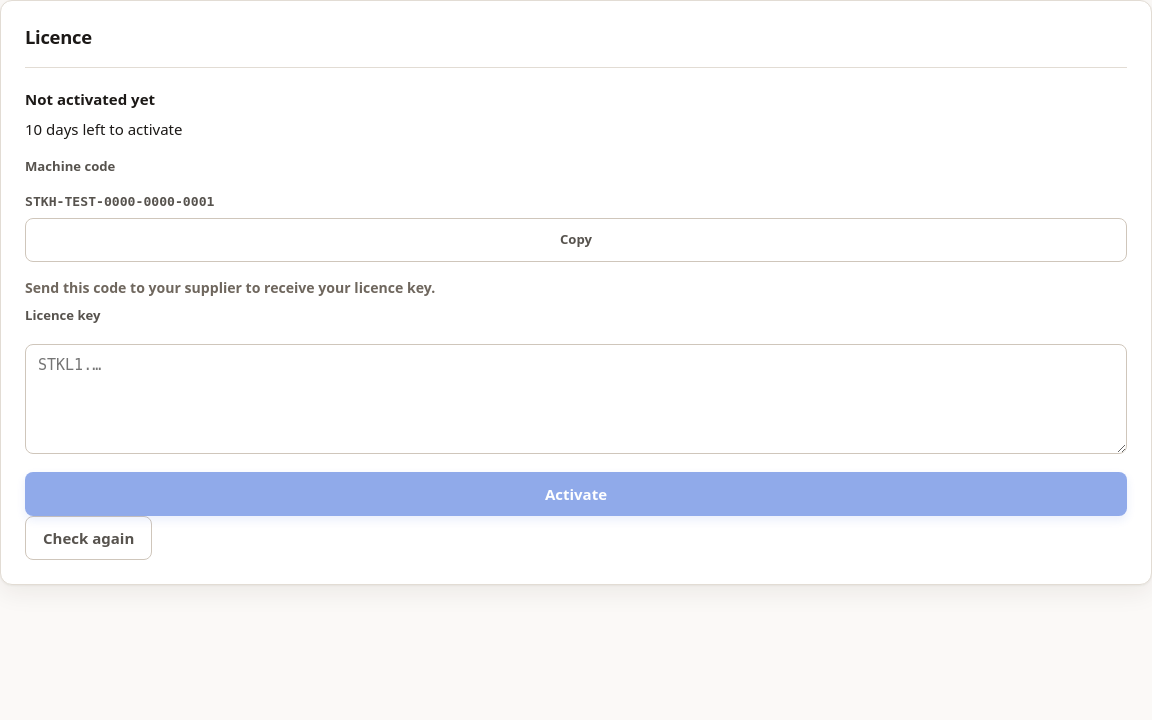
WS-K-7-B LicenceSettingsCard › shows the localized message for LICENCE_MALFORMED
Type "STKL1.abc.def" into the text box with test id "licence-key-input" at (576, 399), box [25,344,1127,454]
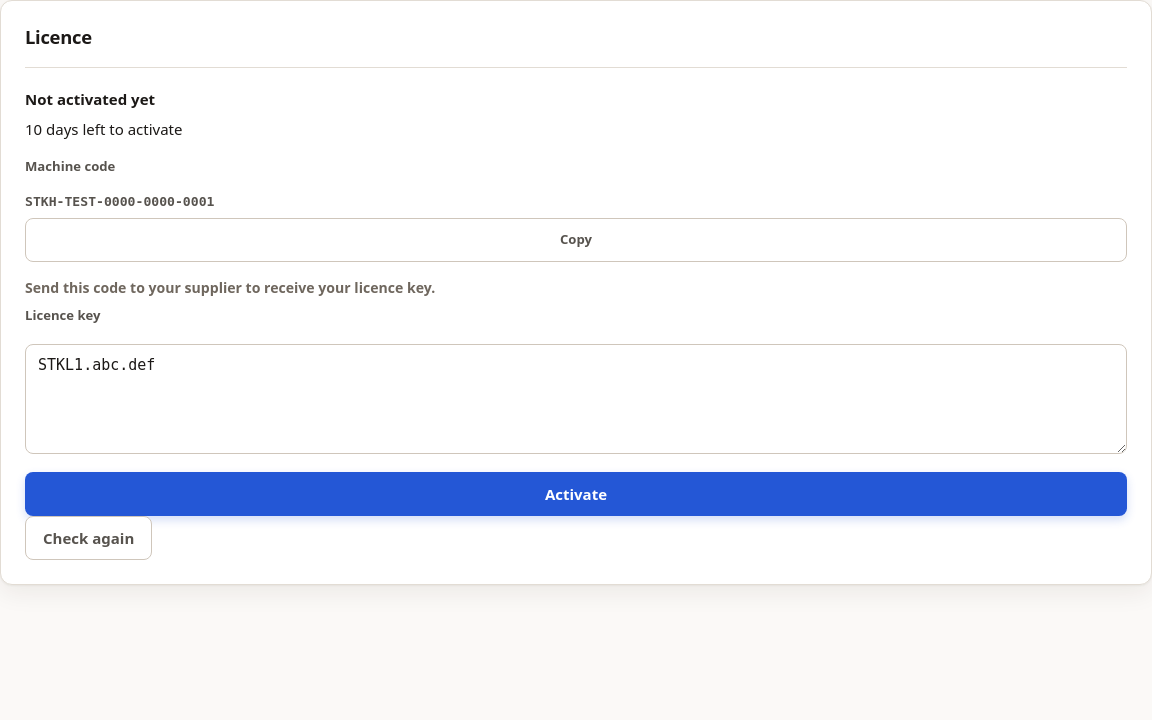
Click the button with test id "licence-activate" at (576, 494), box [25,472,1127,516]
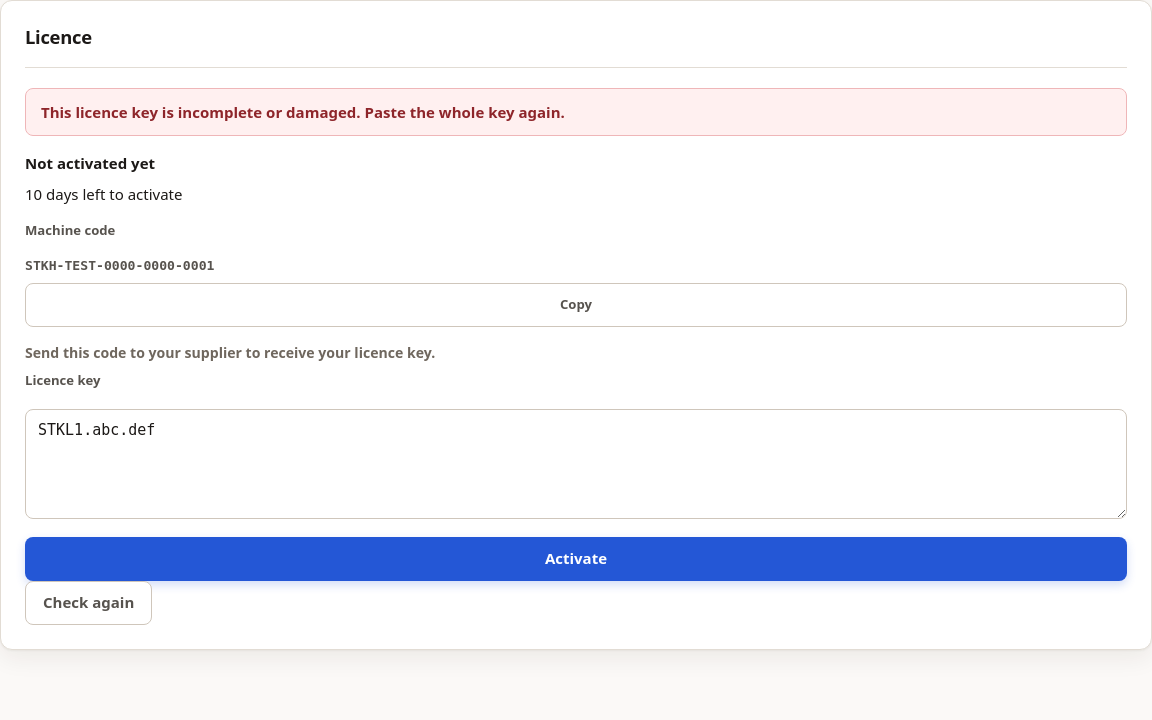
Check: the message "This licence key is incomplete or damaged. Paste the whole key again." is shown, box [25,88,1127,136]
Check: the message with test id "licence-card-banner" reads "This licence key is incomplete or damaged. Paste the whole key again.", box [41,102,565,122]
